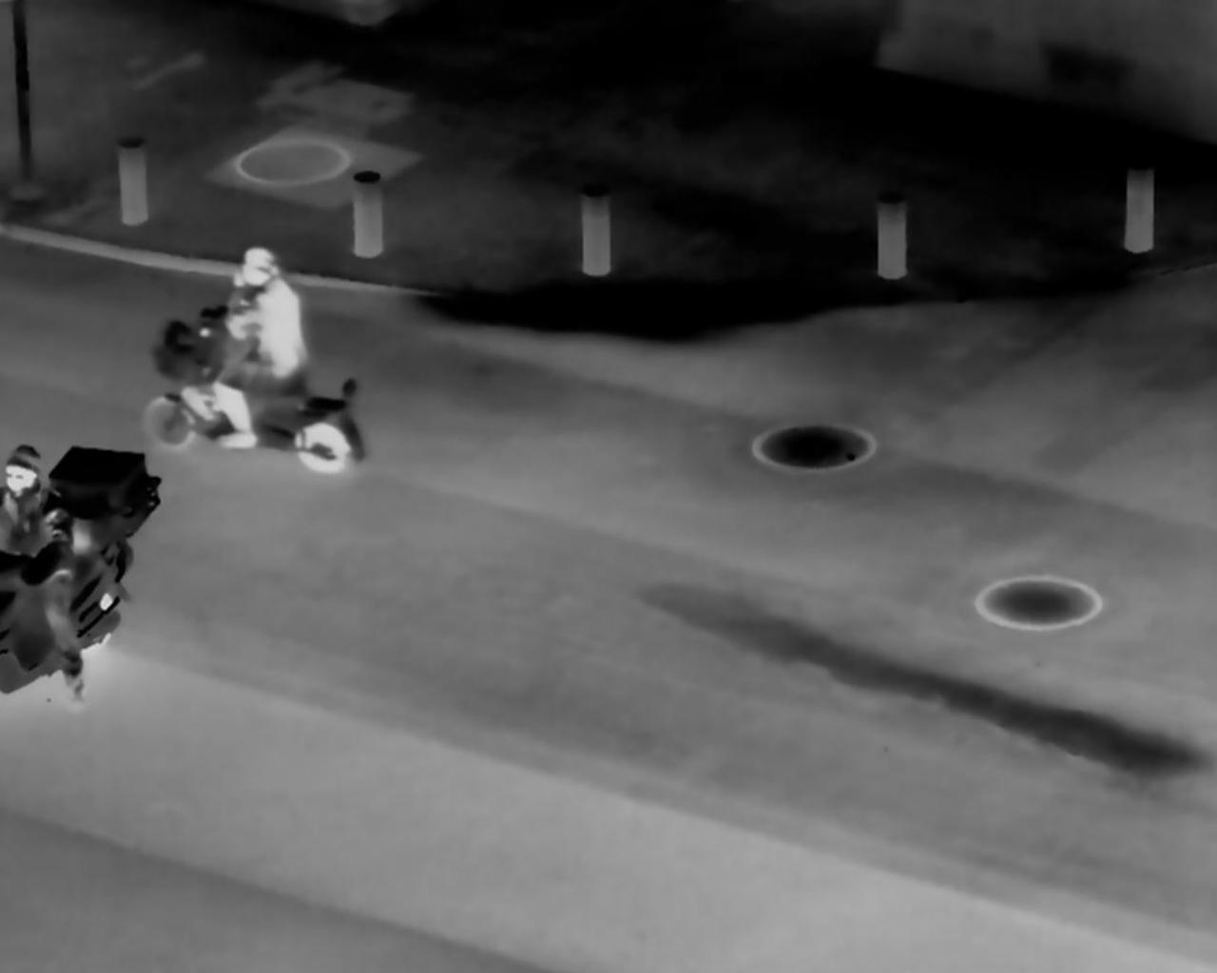person: (3, 446, 103, 685), (215, 236, 316, 465)
